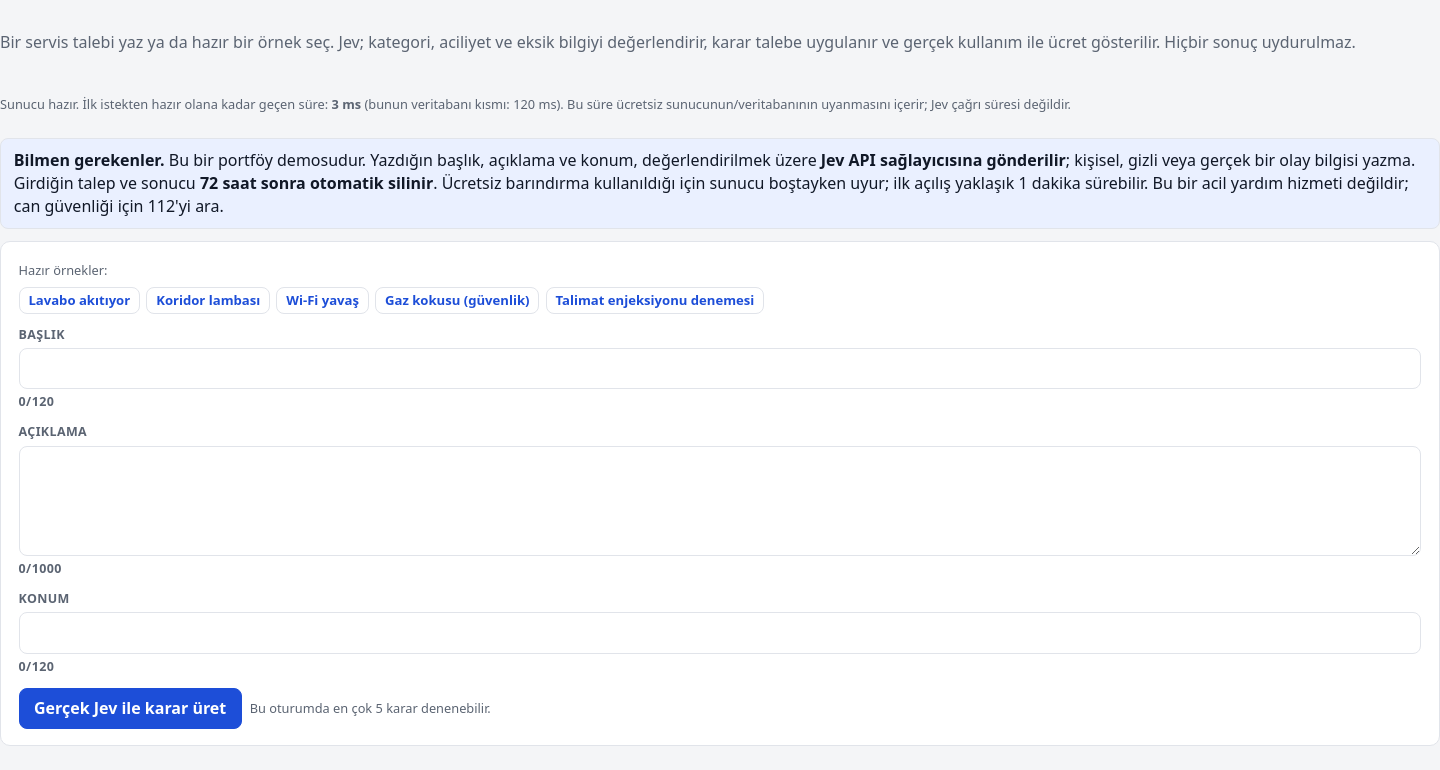
DemoPage: sonuç › mock sonuç "MOCK — gerçek model değil" rozetiyle gösterilir
Expected: the element with test id "wake-summary" is shown, [0,95,1071,113]
Click the button "Lavabo akıtıyor": click(79, 300) [19,287,140,314]
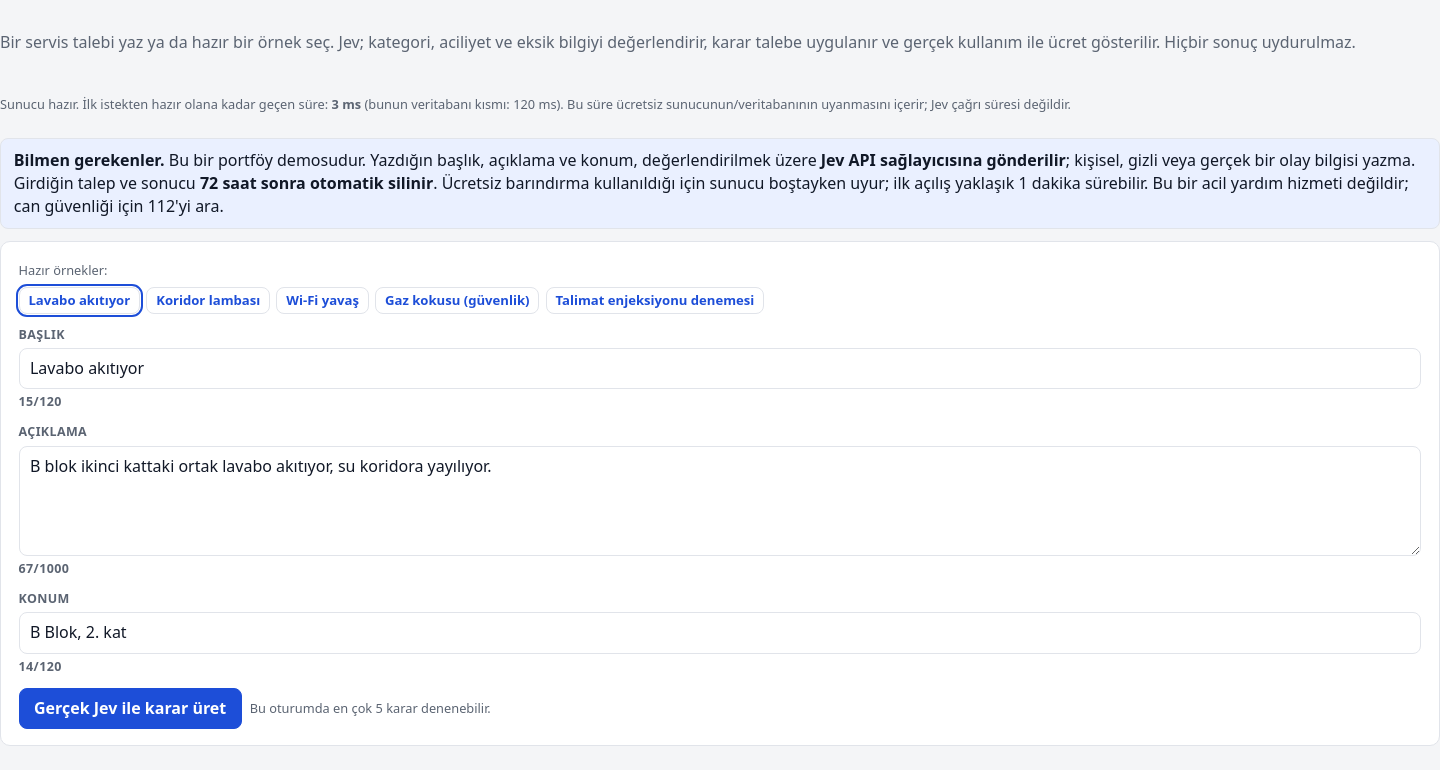
Click the button "Gerçek Jev ile karar üret": click(130, 708) [19,688,242,729]
(page scrolled)
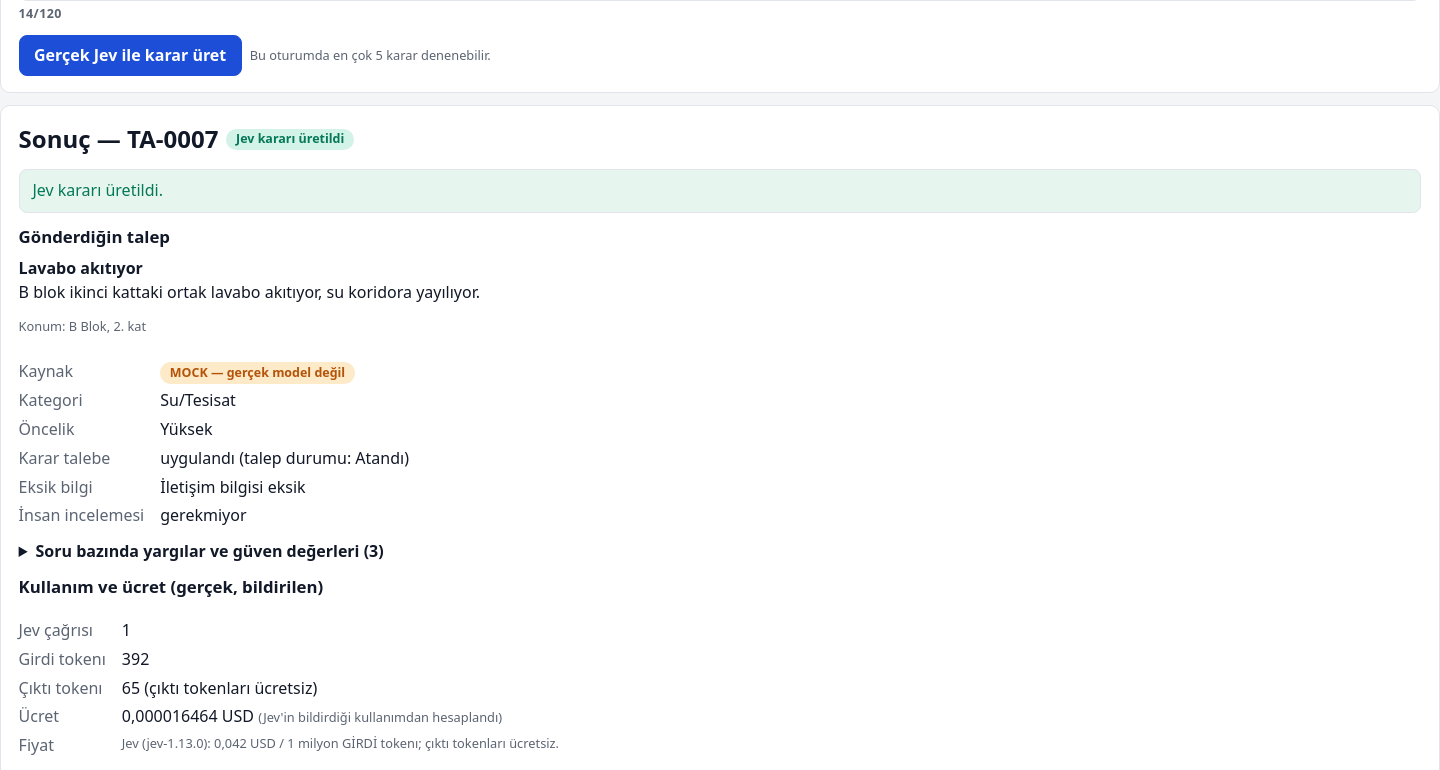
Expected: the text "MOCK — gerçek model değil" is shown, [160,362,355,384]
